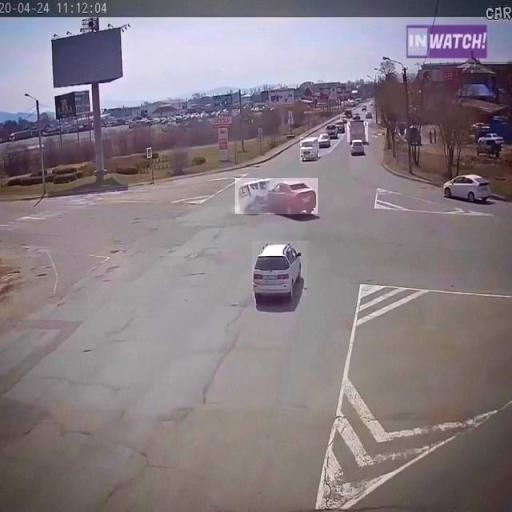小汽车: (252, 241, 307, 296), (441, 172, 489, 202), (300, 137, 319, 160), (347, 122, 368, 142)
小汽车撞小汽车: (235, 178, 318, 214)
